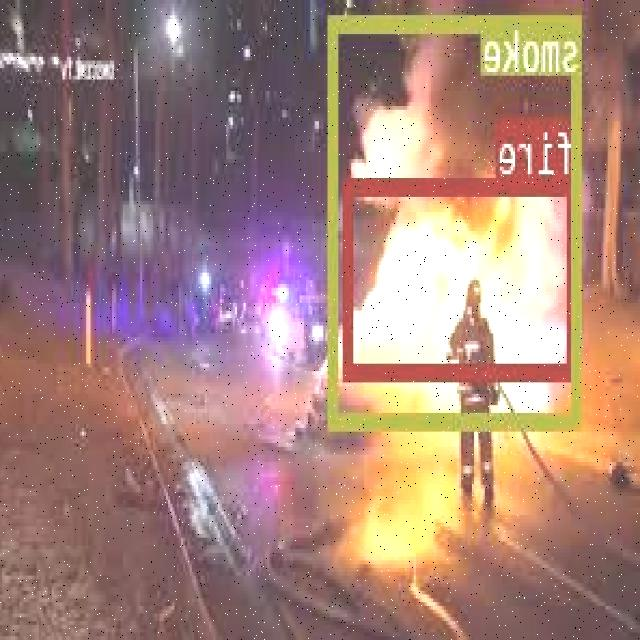fire: (345, 176, 580, 375)
smoke: (331, 14, 582, 425)
